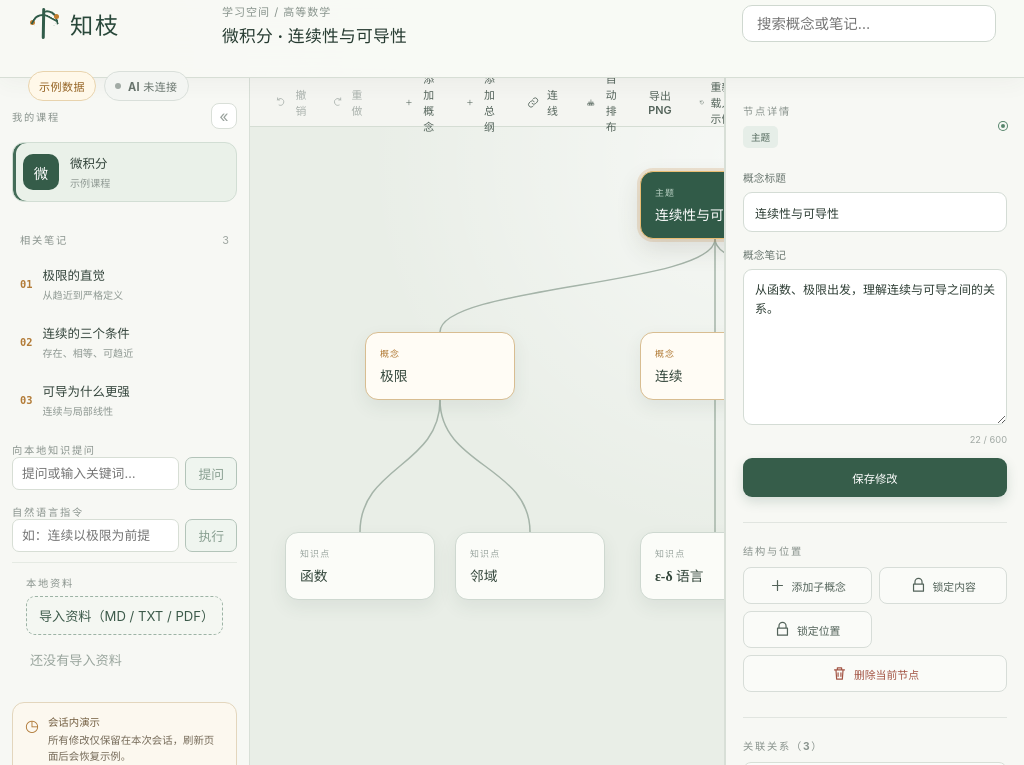
Test: editing toolbox (WORK-2026-047) › adds a root outline block
Step 1. Click the button "添加总纲" → (483, 102), box [456,69,510,135]
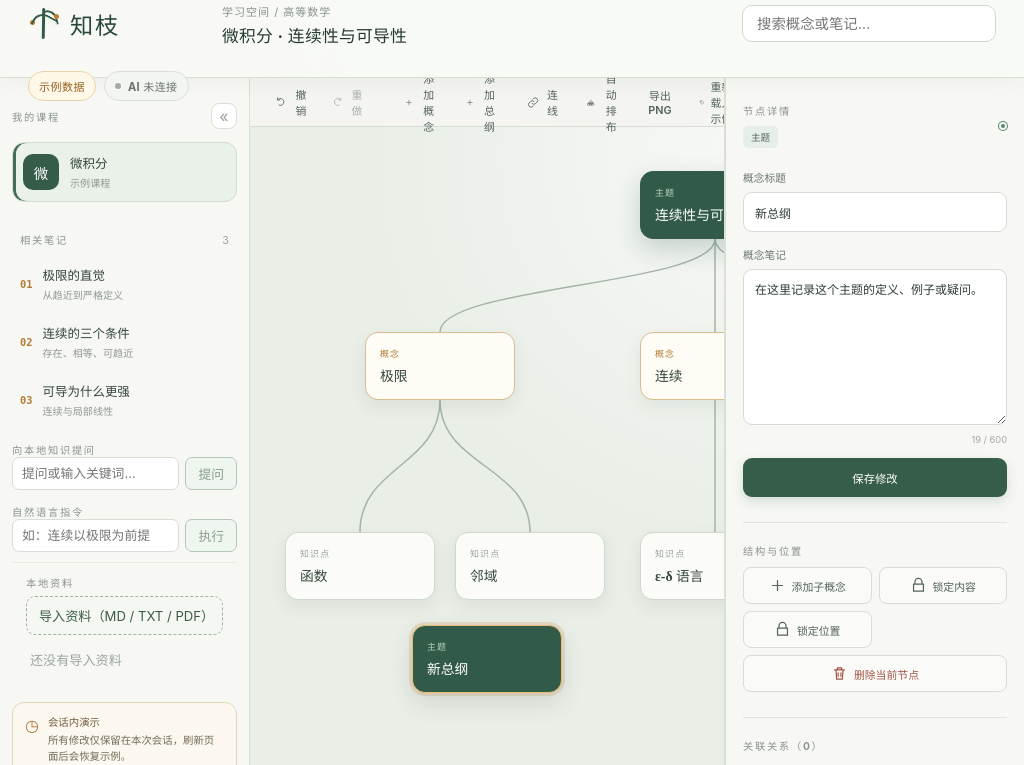
Now the 3rd text with class "node-type" reads "主题", box [427,640,447,652]
